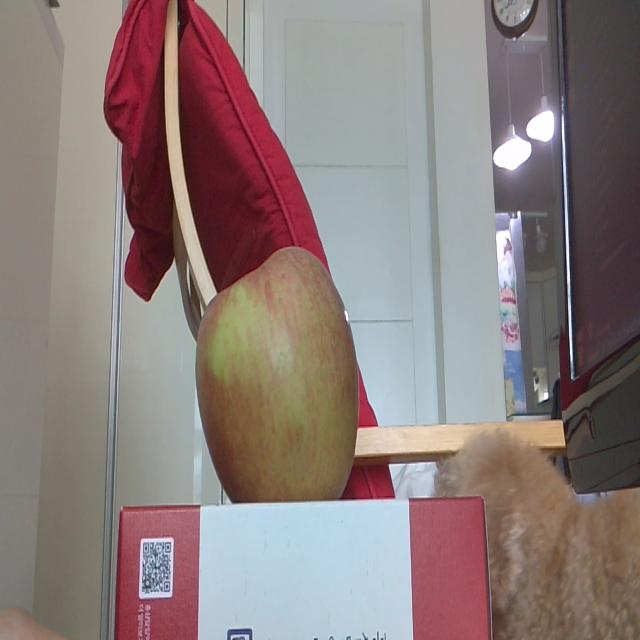apple: (194, 244, 358, 503)
